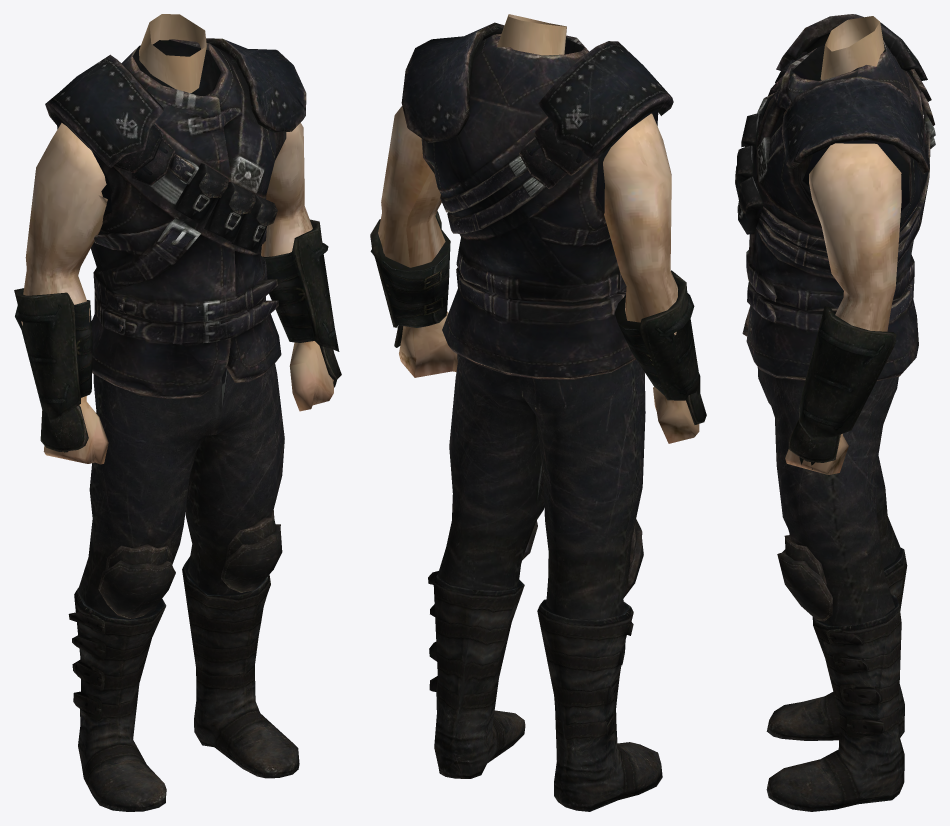
Rendered from ARMOR_DHT_3_ARMOR_LIGHT.glb.
The picture shows the model from 3 angles, left to right: view 1: azimuth 30°, elevation 25°; view 2: azimuth 150°, elevation 25°; view 3: azimuth 270°, elevation 25°; orthographic projection. The views are drawn at different scales.
Parts seen in each view (by area): view 1: ARMOR_DHT_3_ARMOR_LIGHT; view 2: ARMOR_DHT_3_ARMOR_LIGHT; view 3: ARMOR_DHT_3_ARMOR_LIGHT.
Boxes of the visible parts, x1,y1,x2,y2 form: ARMOR_DHT_3_ARMOR_LIGHT: (14,14,341,811); ARMOR_DHT_3_ARMOR_LIGHT: (370,14,706,811); ARMOR_DHT_3_ARMOR_LIGHT: (735,14,935,811).
Size of the model in its own units: 0.714 by 1.68 by 0.4107.
3 materials, 3 textured.
